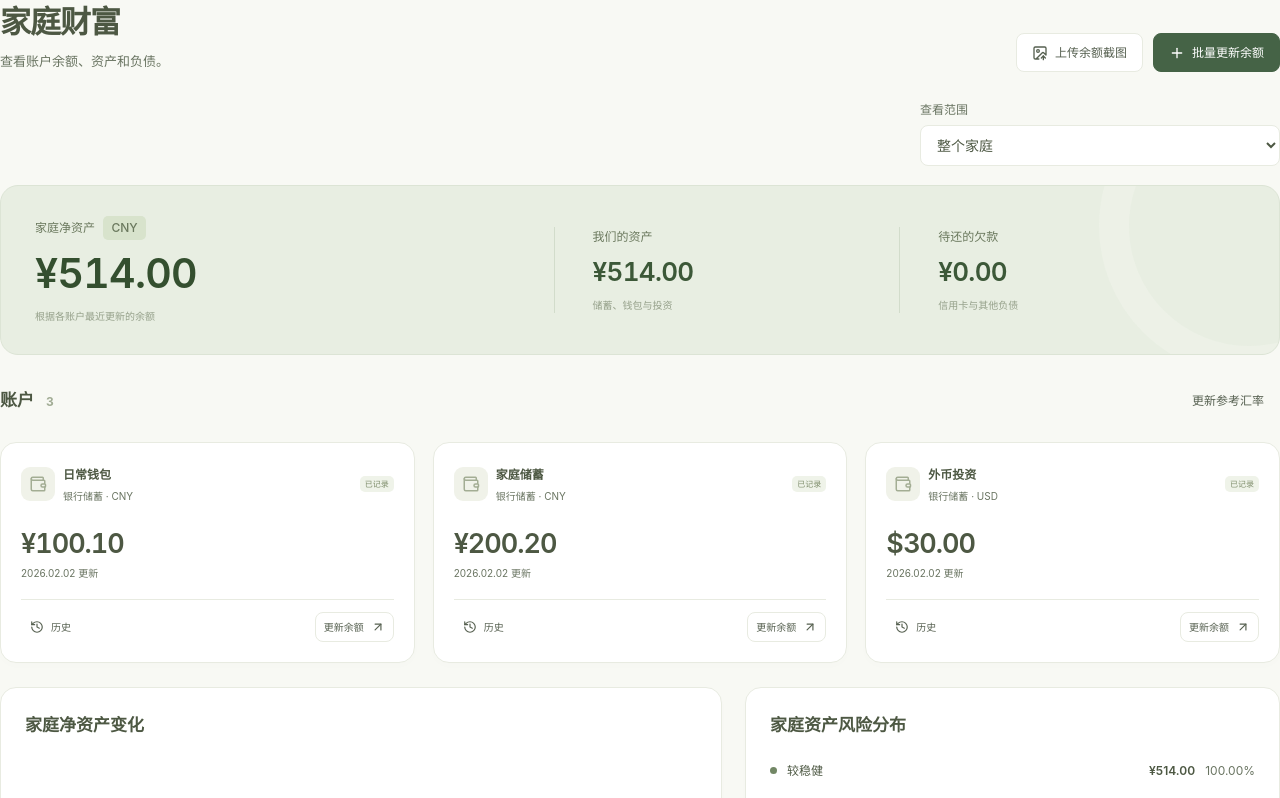
Test case: clears a failed selected report and retries that scope without showing the household totals
Expected: the text "家庭净资产" is shown, [35,220,95,235]
Select "小林" in the dropdown at (1100,146), box [920,125,1279,166]
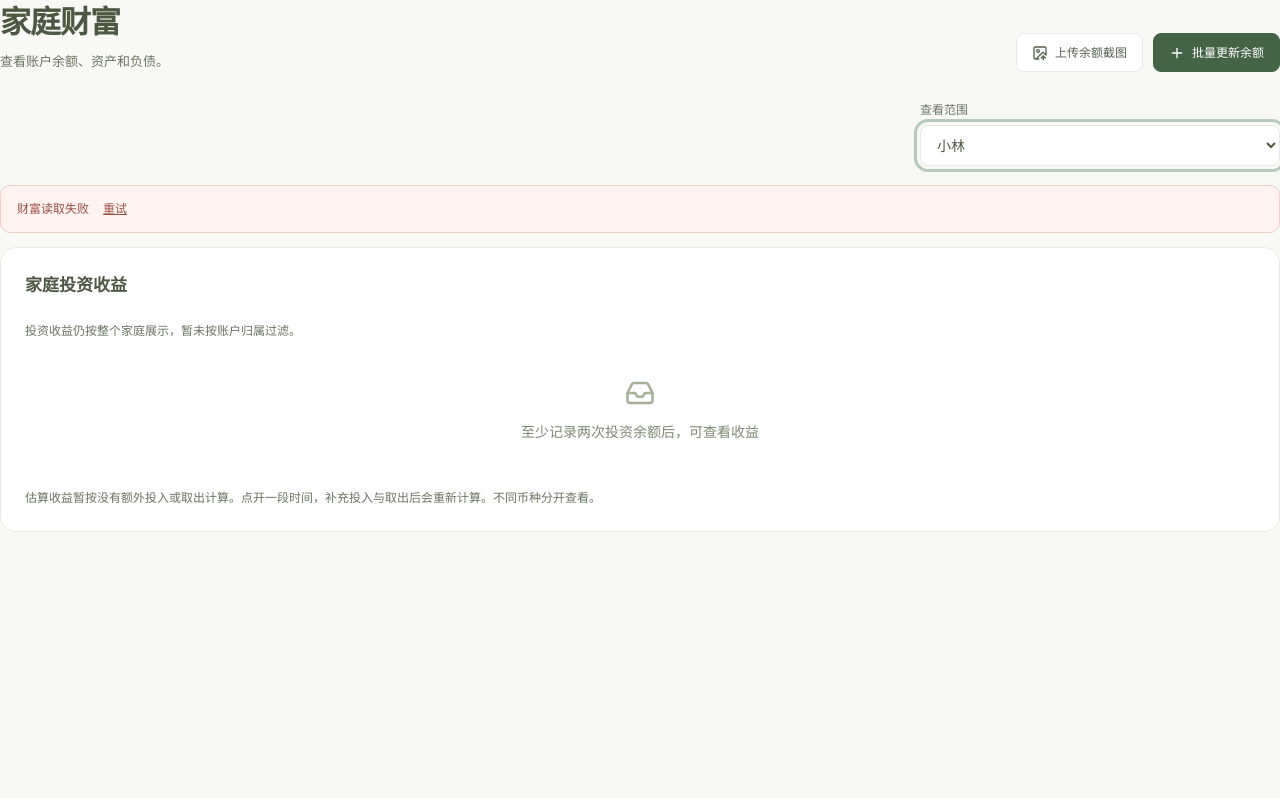
Expected: the text "财富读取失败" is shown, [17,201,89,216]
Expected: the text "家庭净资产" is gone
Click the button "重试" at (115,209), box [97,198,133,220]
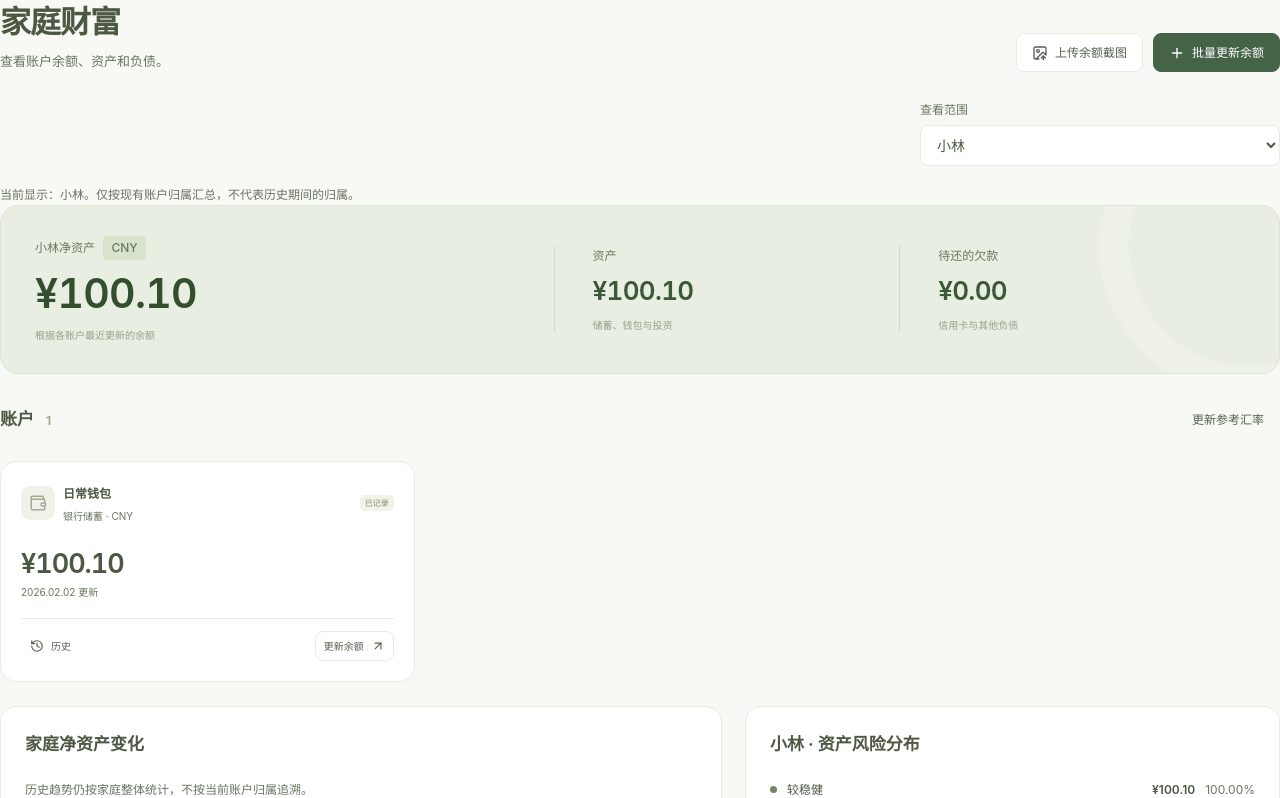
Expected: the text "小林净资产" is shown, [35,240,95,255]
